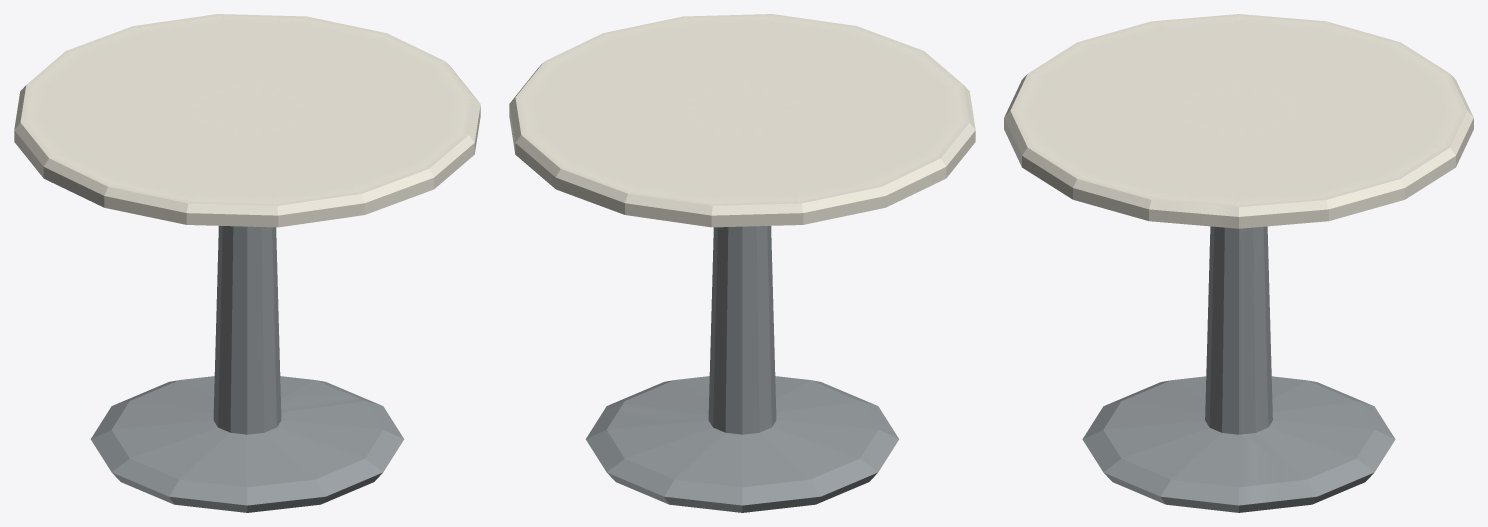
File: pedestal_table.glb
3 renders of one model, left to right at view 1: azimuth 30°, elevation 25°; view 2: azimuth 150°, elevation 25°; view 3: azimuth 270°, elevation 25°, orthographic.
Visible parts, largest first — view 1: arcade_pedestal_table; view 2: arcade_pedestal_table; view 3: arcade_pedestal_table.
Part boxes in pixels (x1,y1,x2,y2): arcade_pedestal_table: (14, 14, 480, 512); arcade_pedestal_table: (509, 14, 975, 512); arcade_pedestal_table: (1004, 14, 1473, 512).
Bounding box in the file's own units: 0.9 × 0.72 × 0.9.
Materials: 2 (2 with a texture image).
